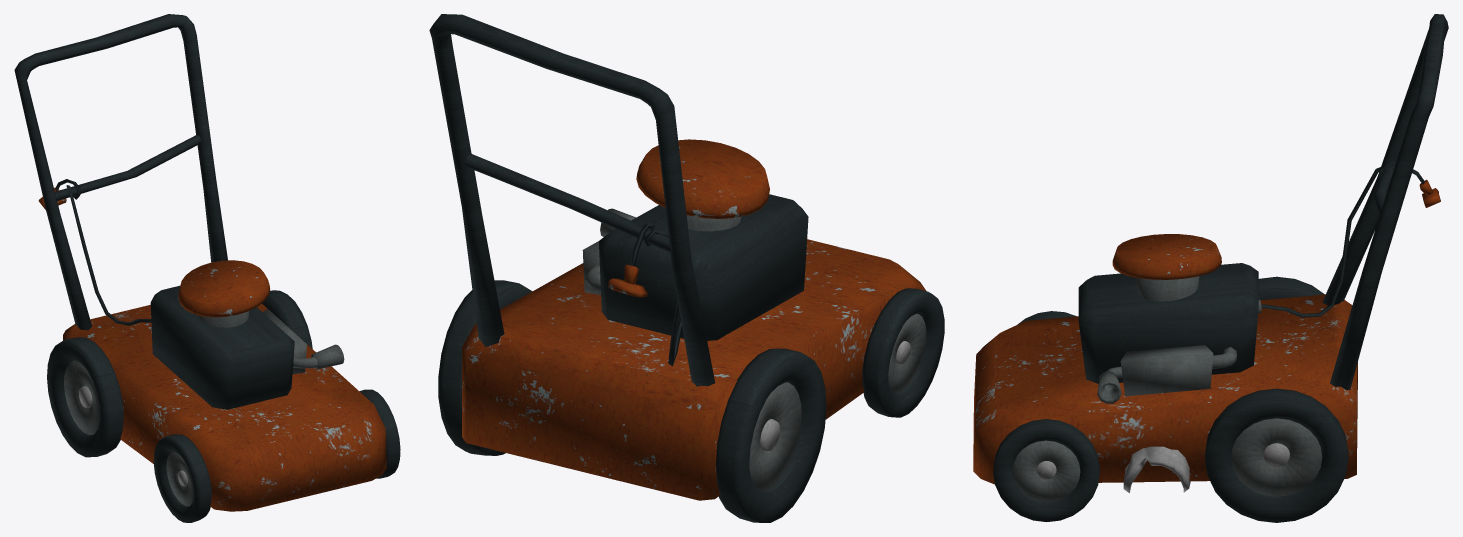
3 views of the same model, side by side, from view 1: azimuth 30°, elevation 25°; view 2: azimuth 150°, elevation 25°; view 3: azimuth 270°, elevation 25° (orthographic). The views are drawn at different scales.
Visible parts, largest first — view 1: lawnmower_0; view 2: lawnmower_0; view 3: lawnmower_0.
Boxes of the visible parts, <box> form: lawnmower_0: <box>14,14,400,522</box>; lawnmower_0: <box>429,14,944,522</box>; lawnmower_0: <box>973,14,1448,522</box>.
Bounding box in the file's own units: 0.7757 × 1.24 × 1.27.
4 materials, 4 textured.
